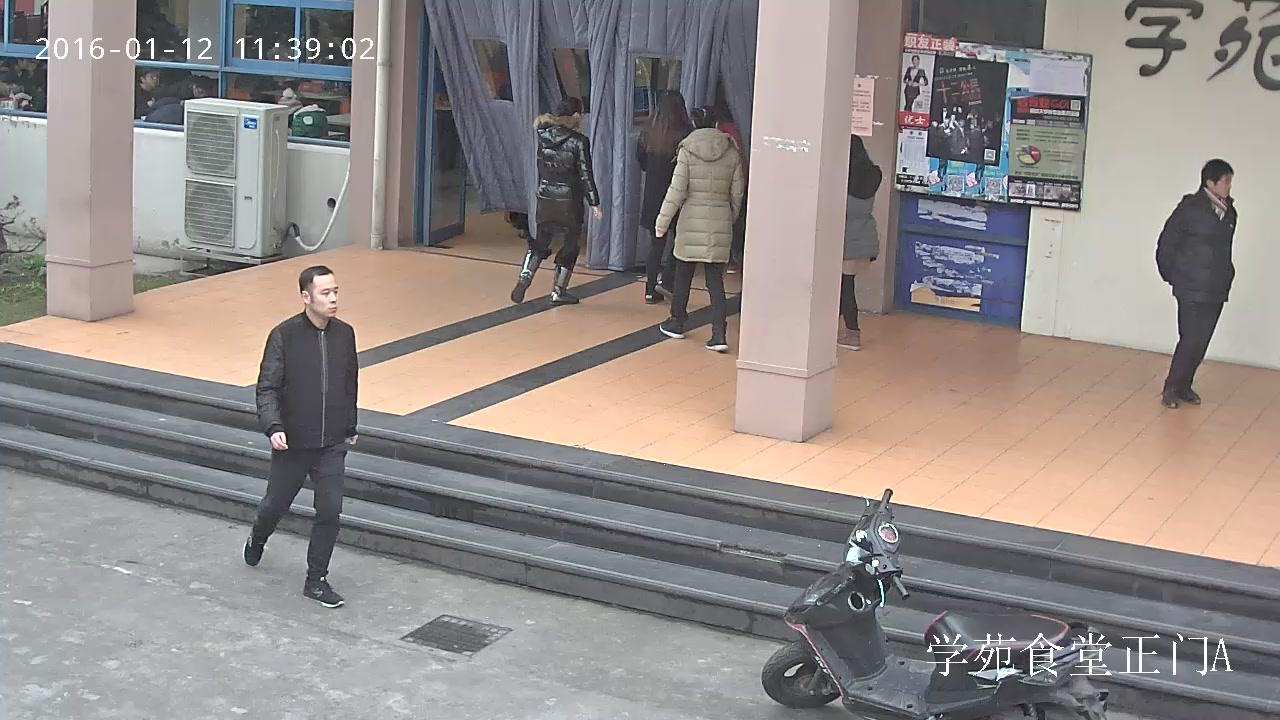person: (244, 264, 358, 606), (655, 106, 745, 350), (1154, 158, 1237, 409), (509, 96, 600, 302), (636, 89, 693, 302), (835, 134, 881, 350), (276, 87, 327, 138), (133, 68, 161, 119), (903, 56, 927, 112), (164, 75, 215, 98)
